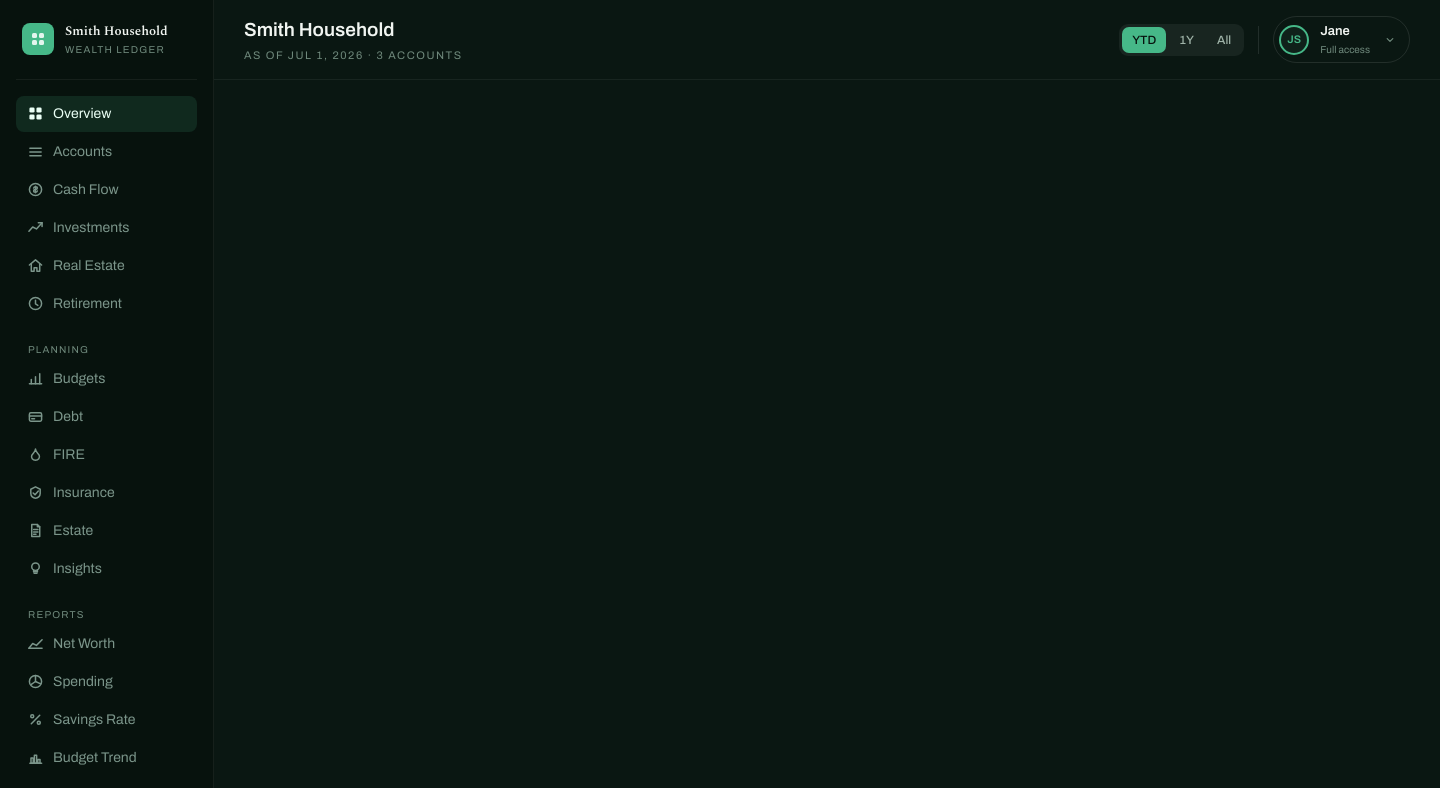
AppLayout › identity widget › closes dropdown on Escape key
The width and height of the screenshot is (1440, 788).
Click the button with aria-label "User menu".
click(1342, 40)  # box 1273,16 -> 1410,63
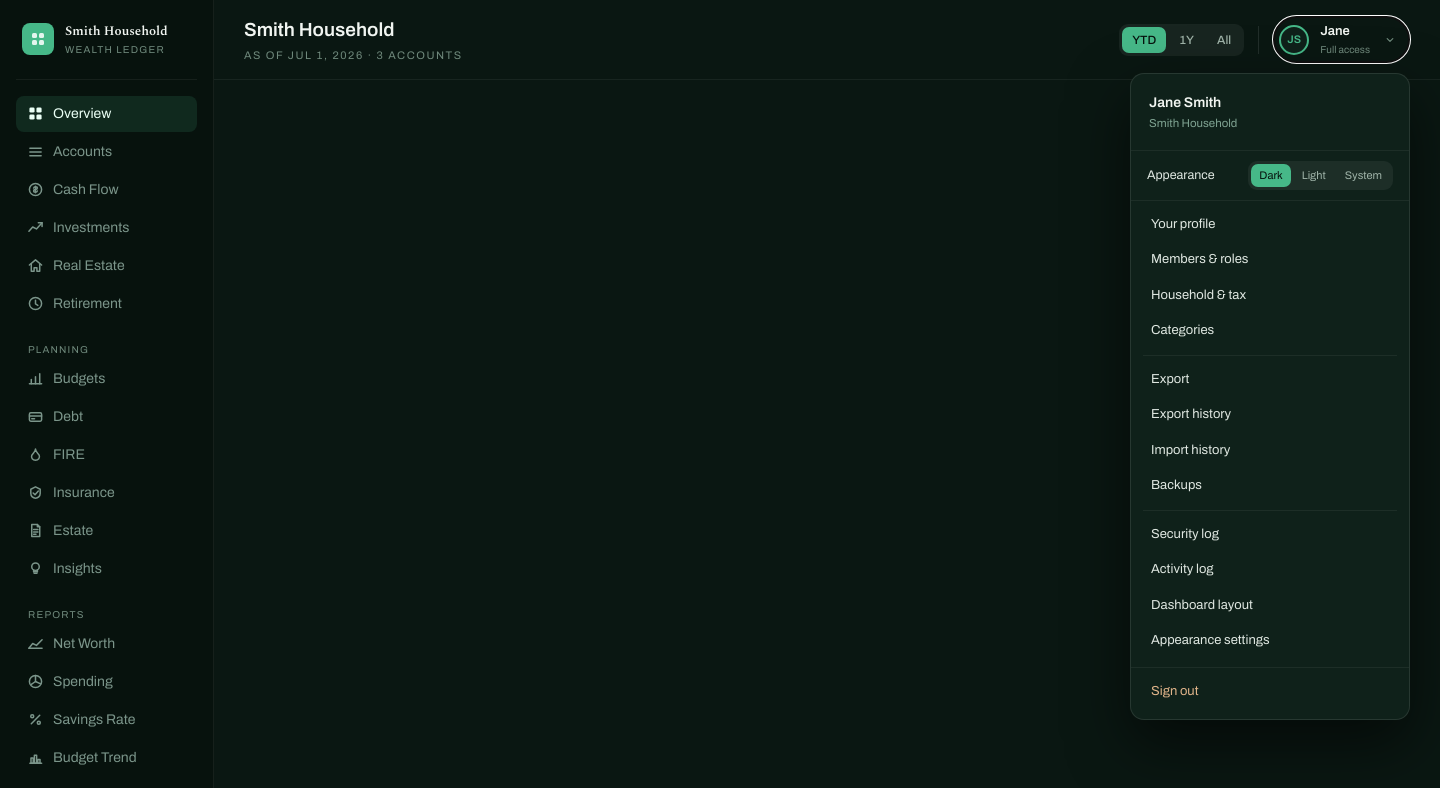
expect the menu is shown: met, box 1130,73 -> 1410,720
Press Escape
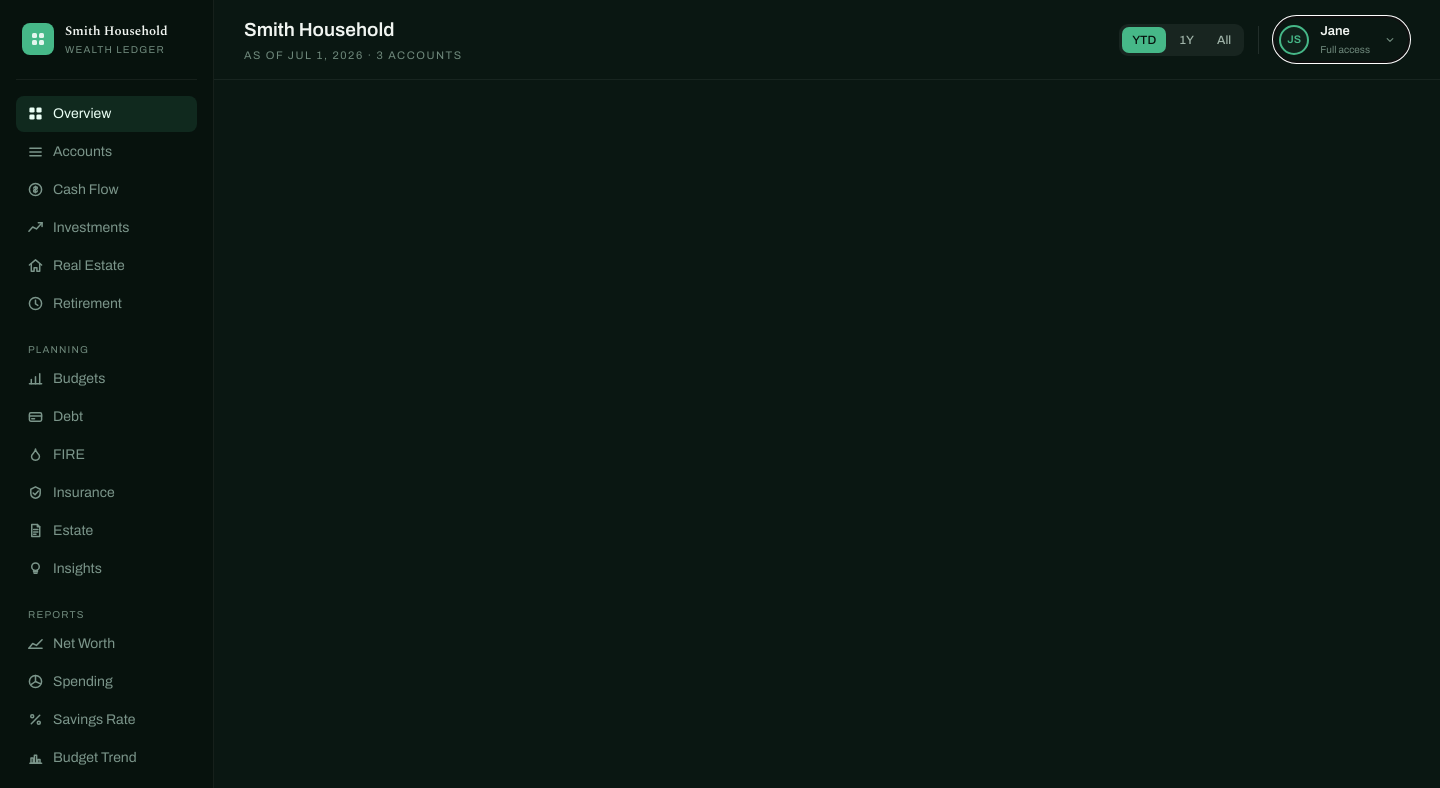
expect the menu is gone: met
